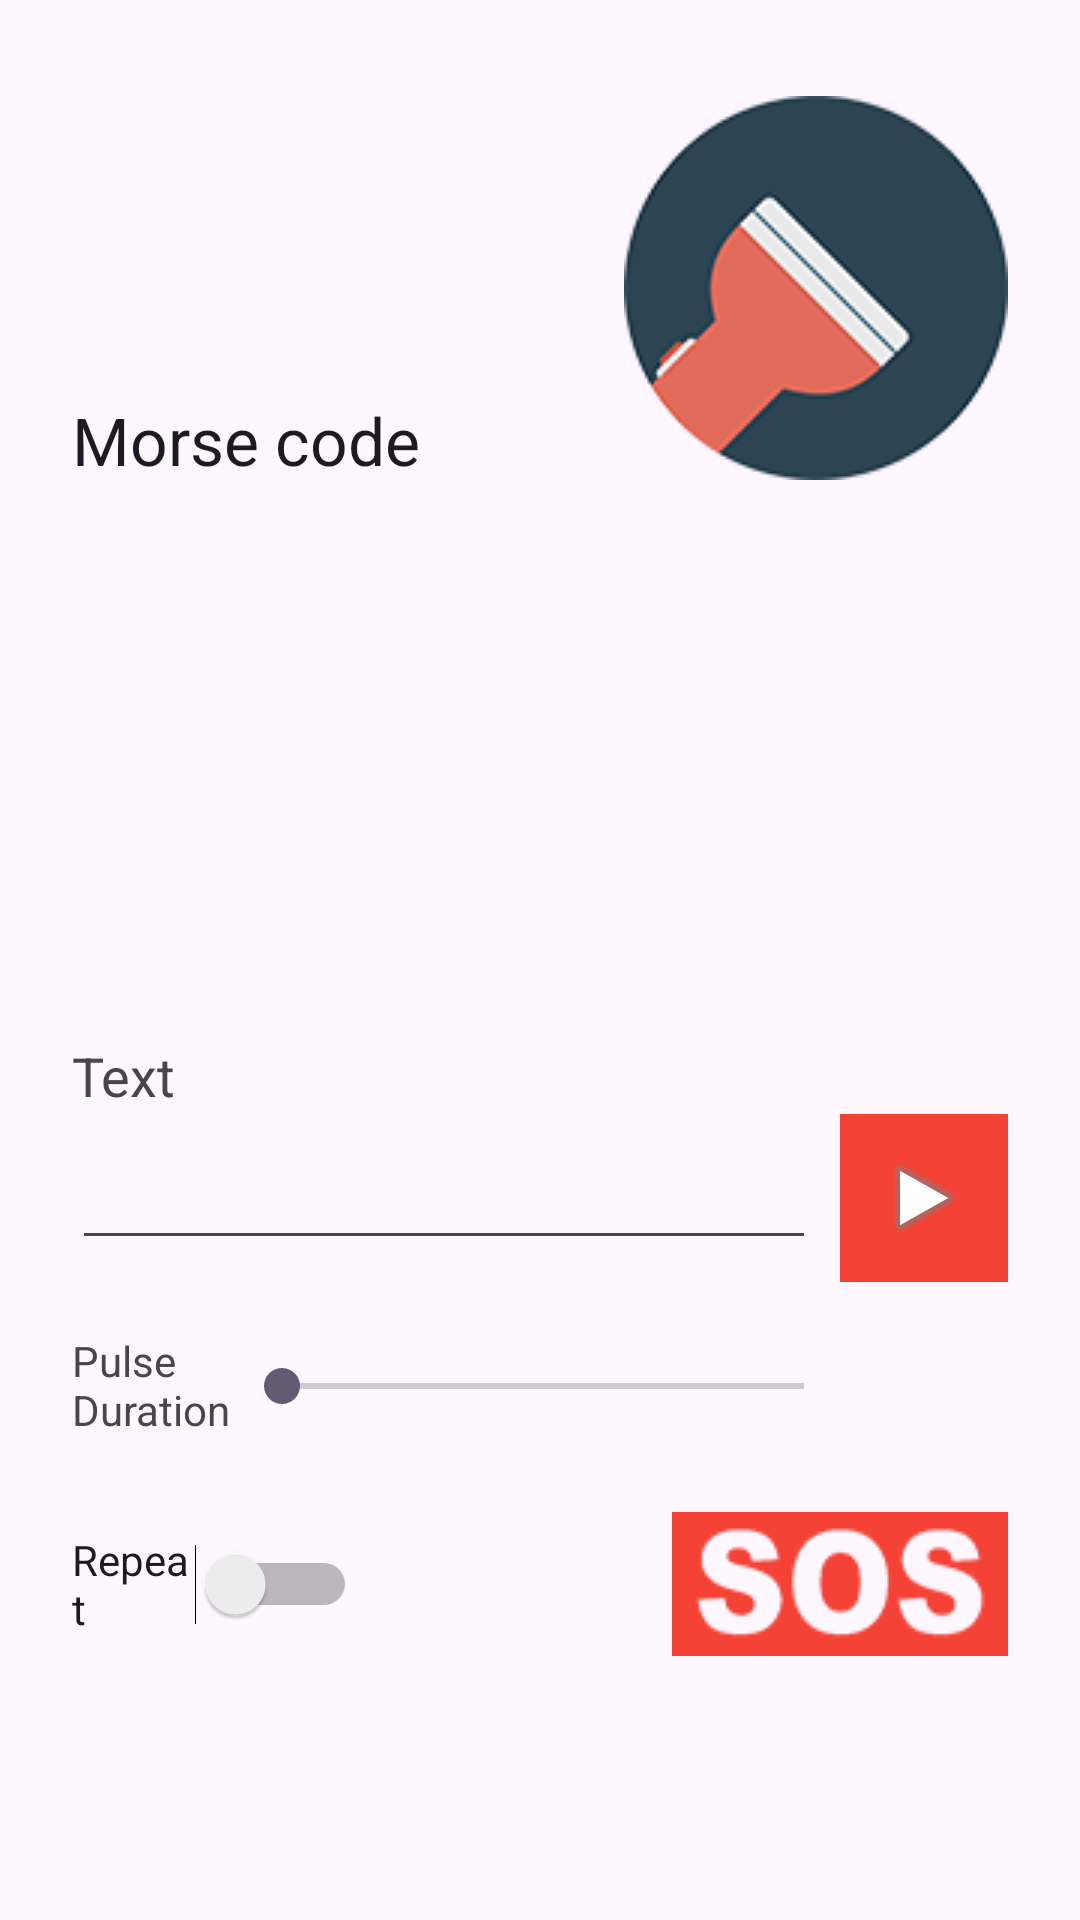

Screen size 1080 x 1920. Icon name, then its box in pixels as (x1, y1, x2, y2):
play Button: (840, 1114, 1008, 1282)
